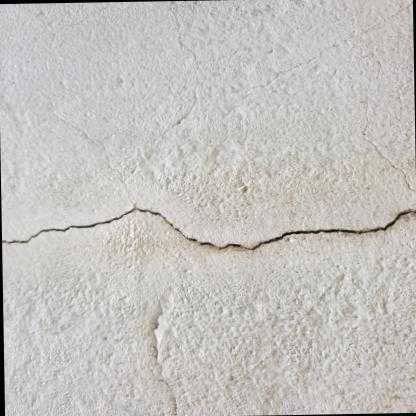crack: (1, 208, 416, 249)
